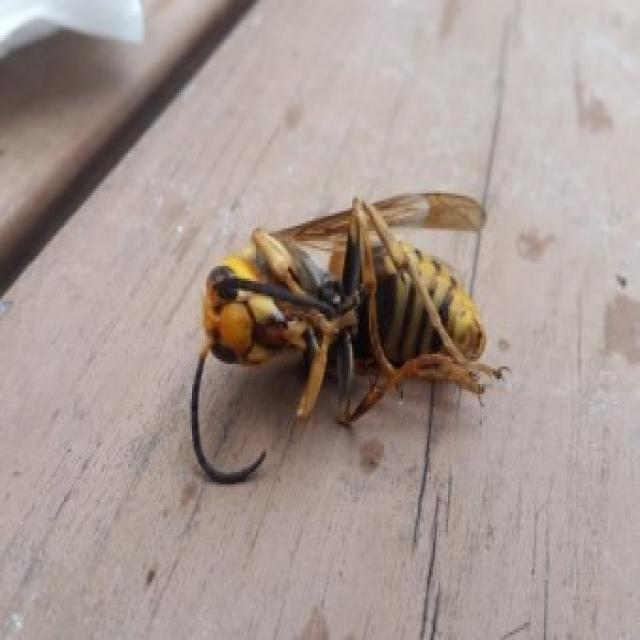Wasp: (172, 174, 510, 490)
